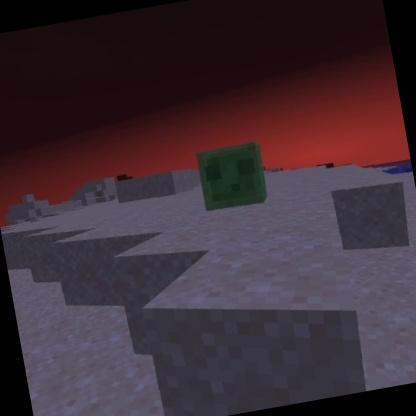slime: (190, 137, 274, 215)
